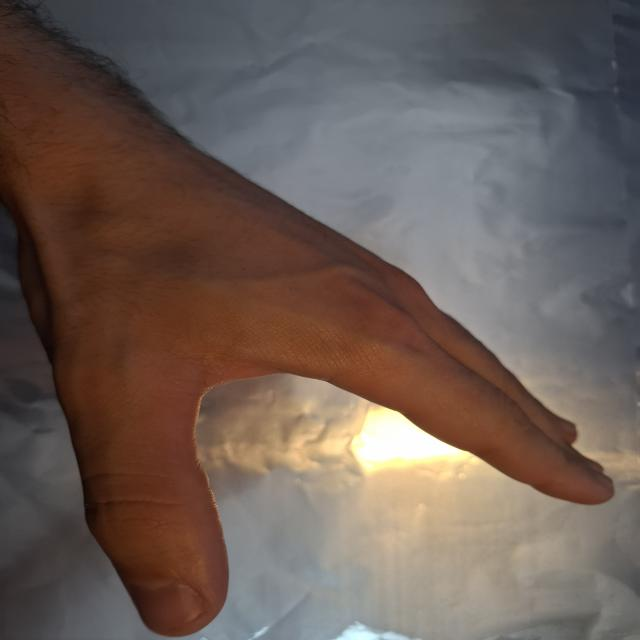glove_off: (12, 136, 617, 639)
